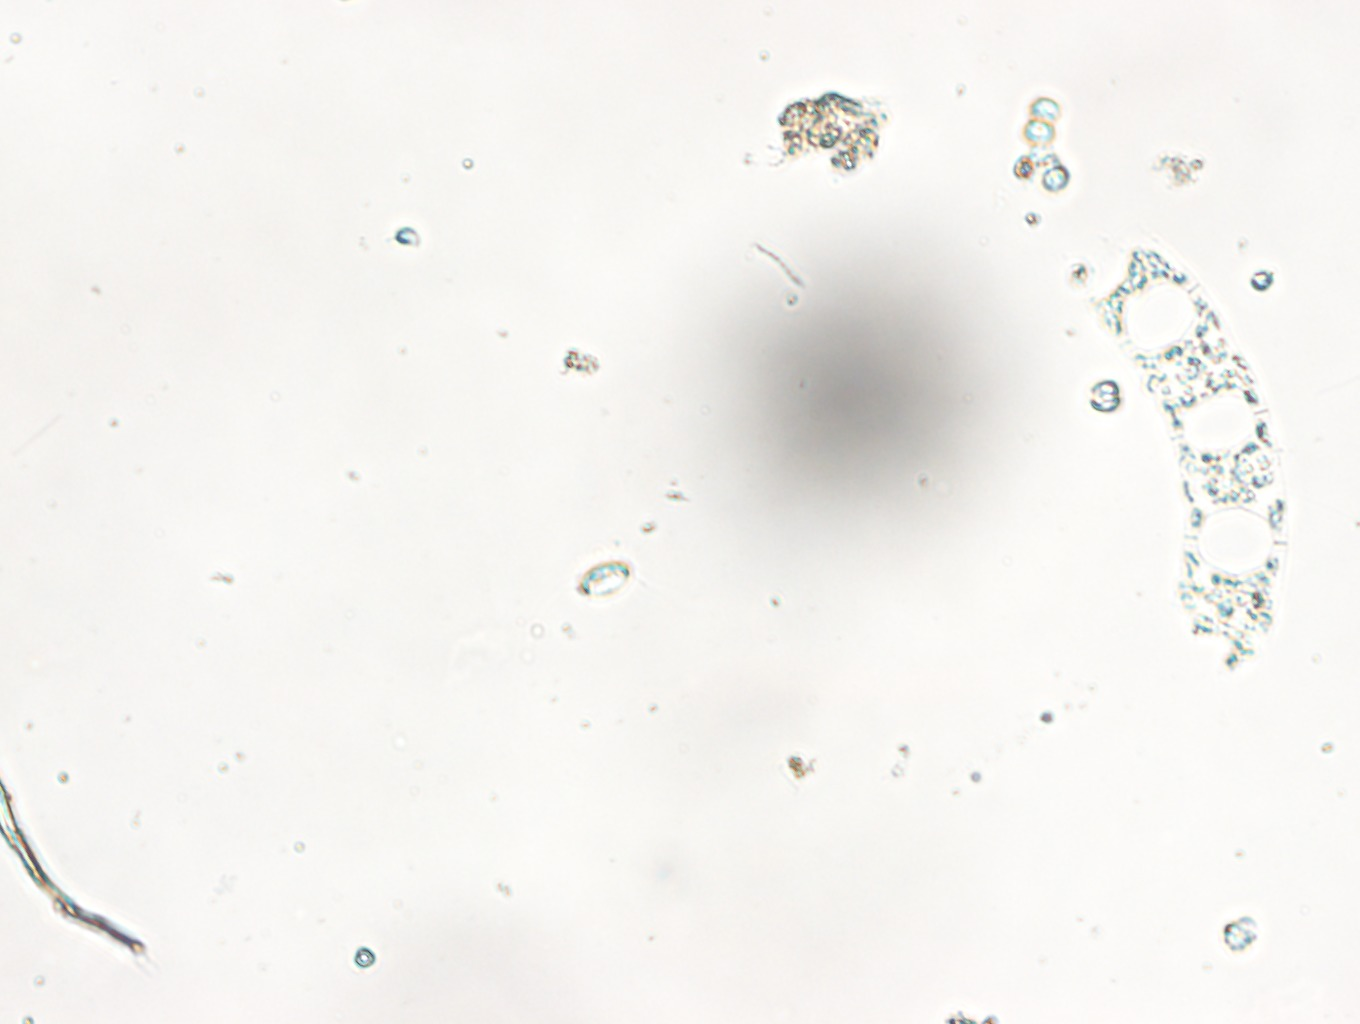eucampia: (1069, 231, 1302, 677)
